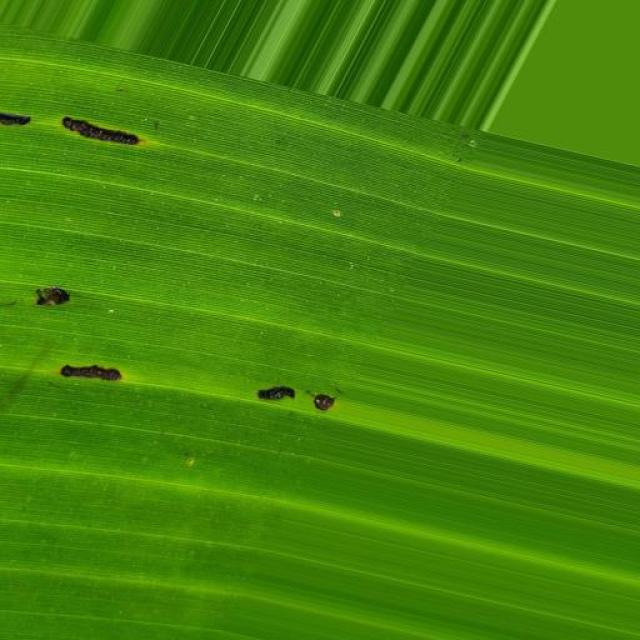Black_rot: (9, 267, 180, 433), (5, 83, 192, 197), (222, 366, 406, 446)
